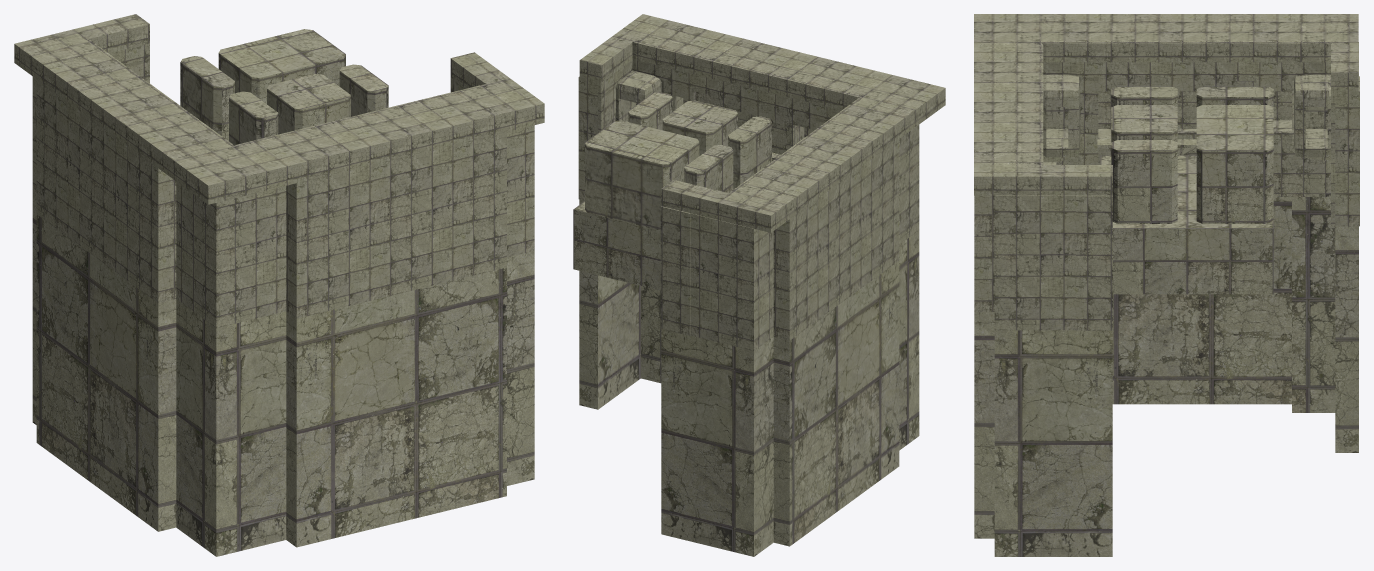
Rendered from SM_NeoLD_04_Block_00.fbx.
3 views of the same model, side by side, from view 1: azimuth 30°, elevation 25°; view 2: azimuth 150°, elevation 25°; view 3: azimuth 270°, elevation 25° (orthographic). The views are drawn at different scales.
Parts seen in each view (by area): view 1: SM_NeoLD_04_Block_00; view 2: SM_NeoLD_04_Block_00; view 3: SM_NeoLD_04_Block_00.
Part boxes in pixels (x1,y1,x2,y2): SM_NeoLD_04_Block_00: [14, 14, 544, 556]; SM_NeoLD_04_Block_00: [573, 14, 945, 556]; SM_NeoLD_04_Block_00: [974, 14, 1359, 556].
Size of the model in its own units: 2837 by 3080 by 2833.
